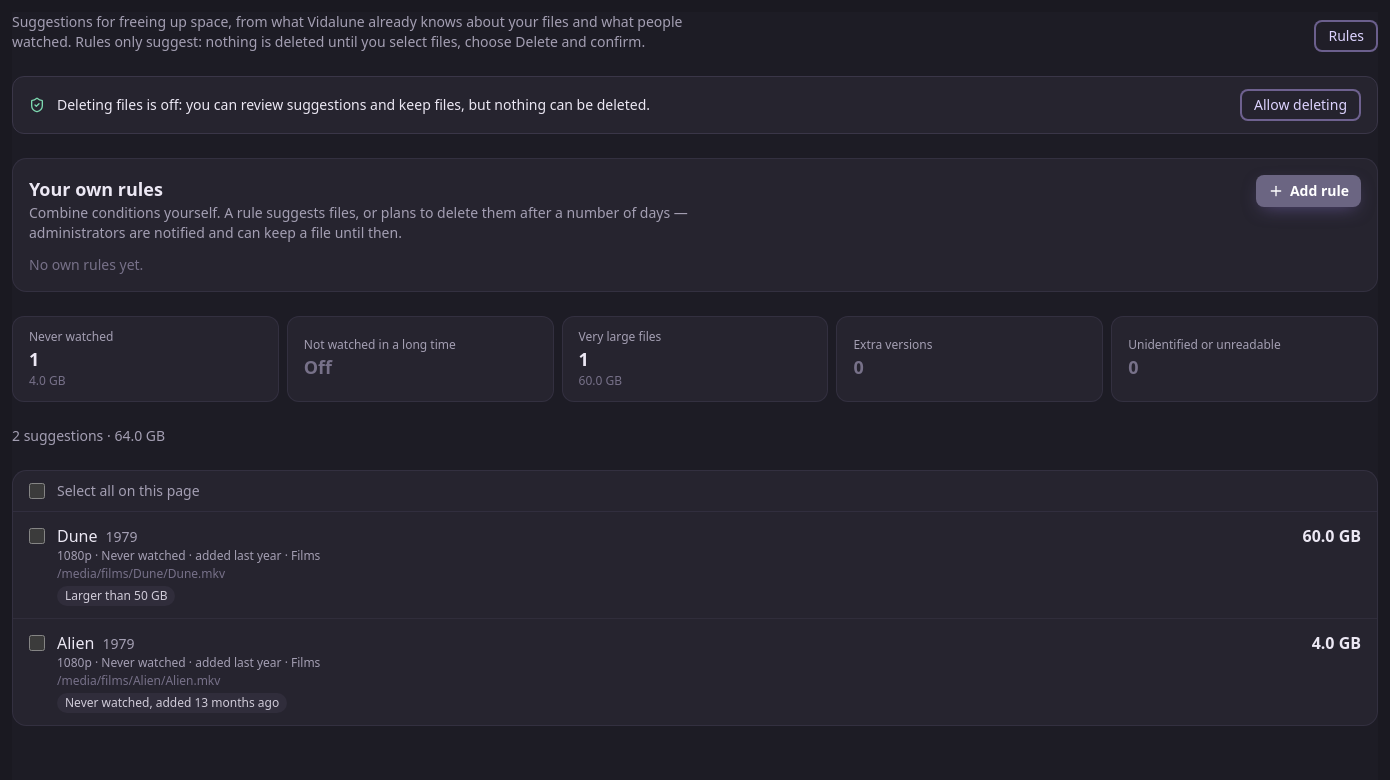
Test: Clean-up page › shows suggestions with size, path, watch status and reasons; deleting is off by default
The width and height of the screenshot is (1390, 780).
Expected: the list item "Larger than 50 GB" is shown, [57,586,176,606]
Expected: the text "/media/films/Alien/Alien.mkv" is shown, [57,672,220,689]
Click the checkbox named "Select Alien 1979": [37, 643] box [29,635,45,651]
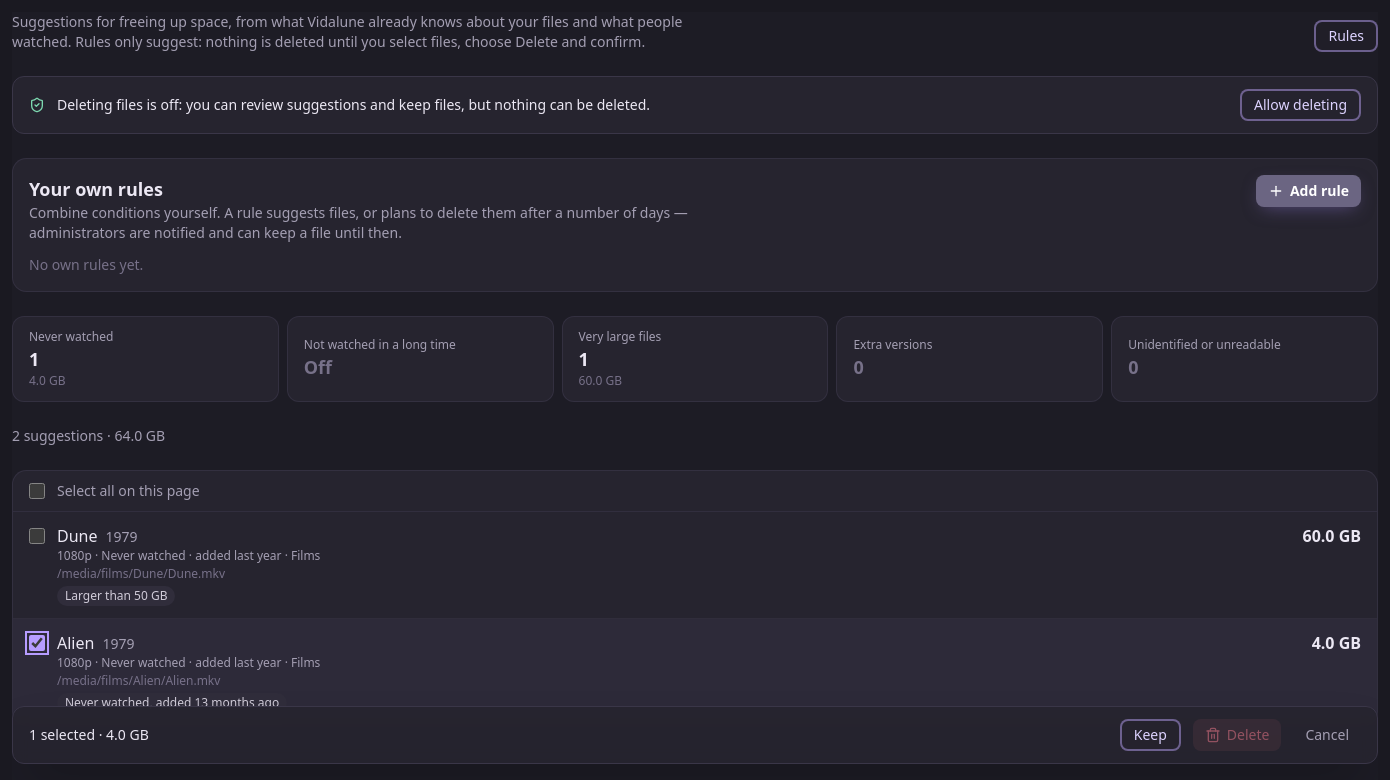
Now the button "Delete" is disabled, box [1193,719,1281,751]
